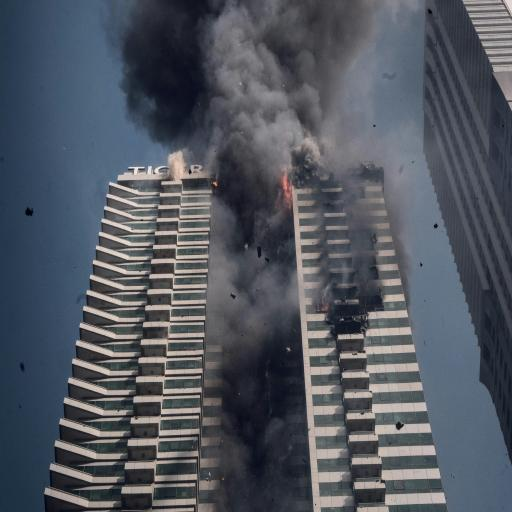buildingfire: (81, 138, 421, 456)
smoke: (96, 0, 428, 188), (212, 181, 360, 446)
